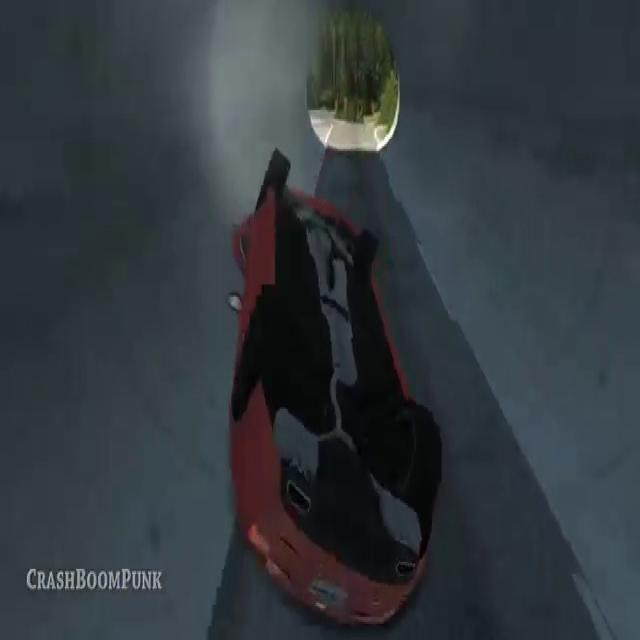accident: (222, 144, 446, 632)
